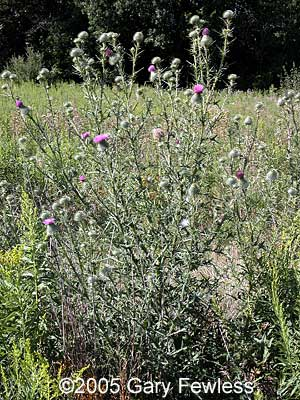thistle: (91, 133, 111, 159), (188, 83, 209, 107), (41, 215, 60, 238), (13, 101, 36, 120)
